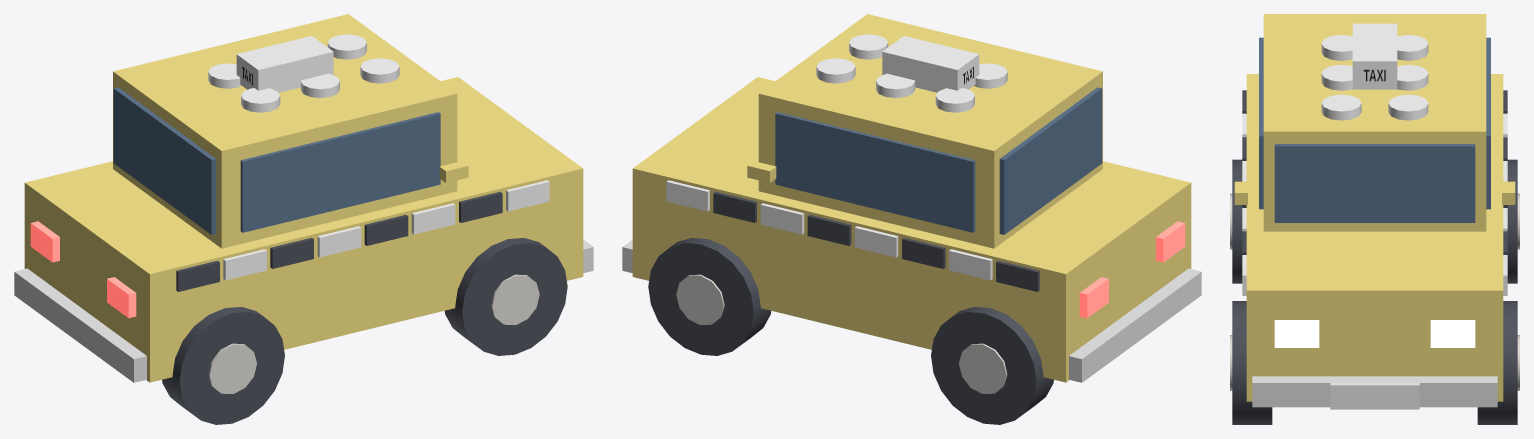
The model's file is car-taxi.glb.
3 views of the same model, side by side, from view 1: azimuth 30°, elevation 25°; view 2: azimuth 150°, elevation 25°; view 3: azimuth 270°, elevation 25° (orthographic). The views are drawn at different scales.
Size of the model in its own units: 2.47 by 1.47 by 1.3.
43 materials, 2 textured.
